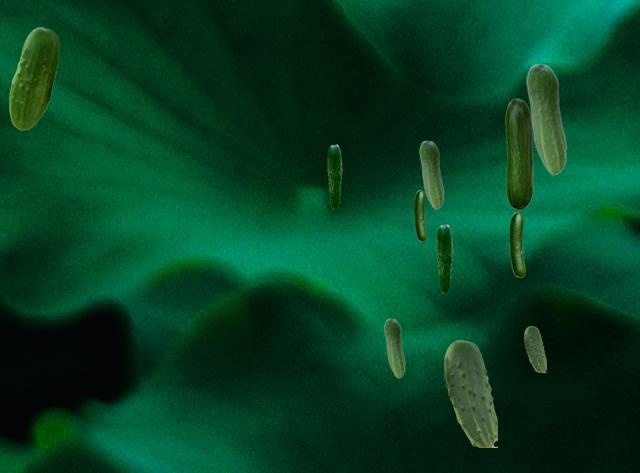cucumber: (444, 340, 496, 446), (9, 27, 58, 129), (526, 63, 566, 174), (505, 98, 532, 209), (419, 140, 443, 208), (384, 318, 404, 377), (436, 224, 452, 292), (509, 212, 524, 276), (524, 326, 545, 371), (327, 144, 341, 208), (414, 190, 425, 240)
